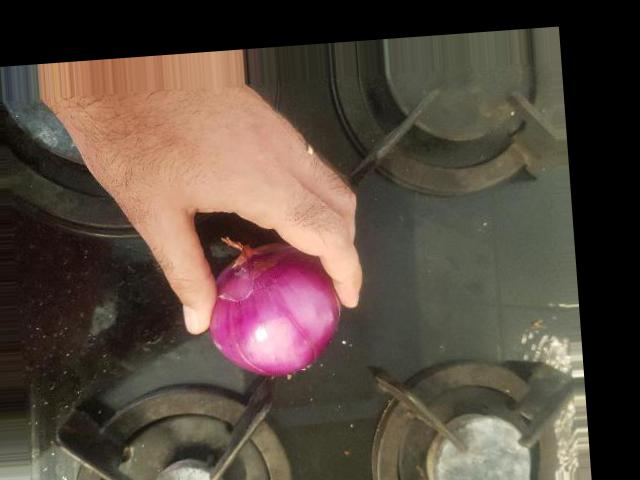onion: (208, 250, 340, 369)
